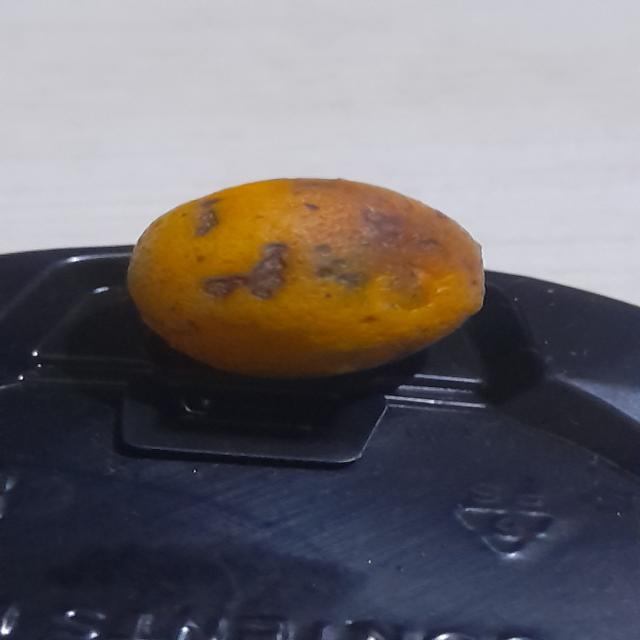black spot: (118, 175, 489, 385)
